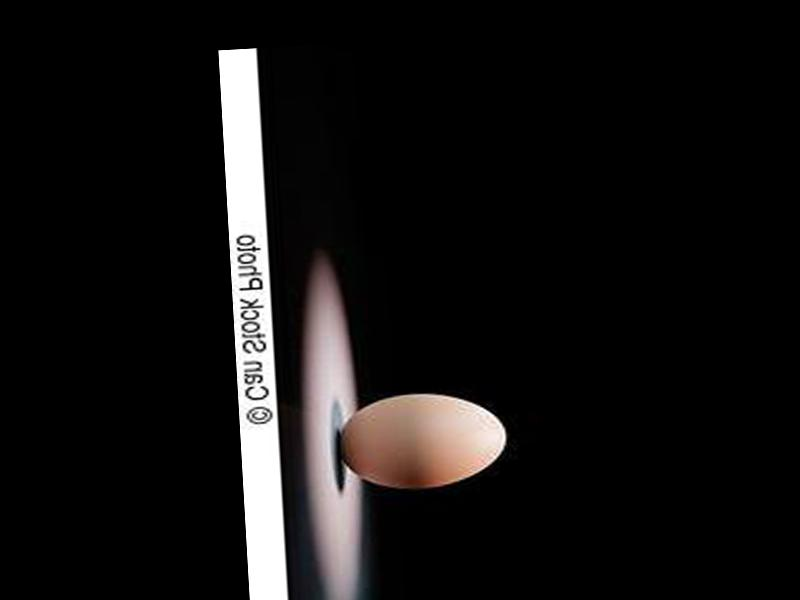Eggs: (334, 389, 508, 495)
